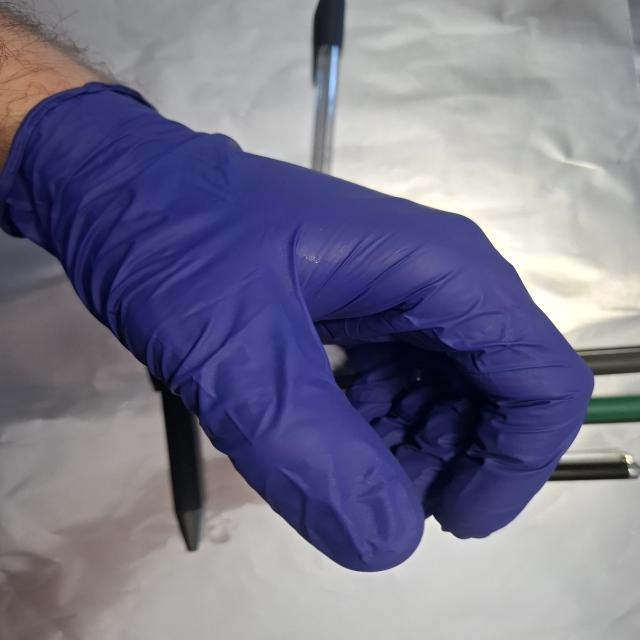glove_on: (6, 77, 599, 578)
